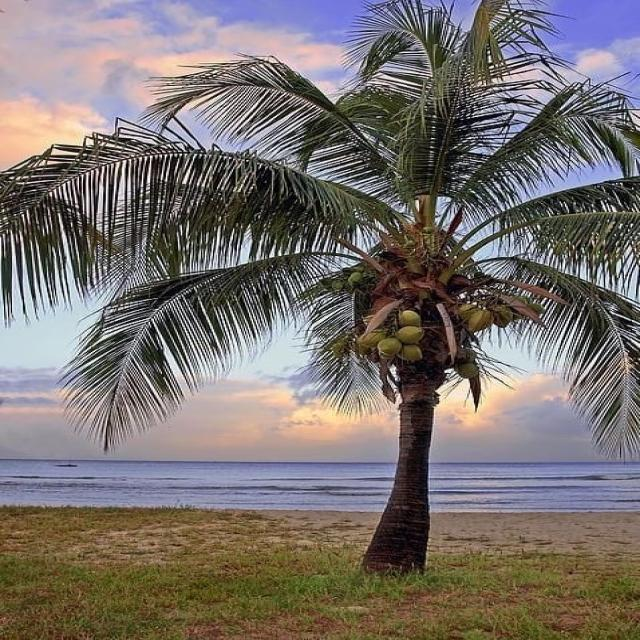Coconut-tree: (74, 53, 640, 640), (254, 153, 553, 559)
